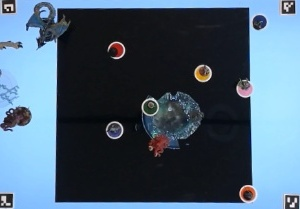blue: (252, 13, 271, 31)
green: (140, 94, 162, 117)
orange: (239, 182, 258, 204)
pink: (232, 76, 255, 100)
red: (108, 41, 127, 60)
violet: (103, 119, 126, 139)
yellow: (194, 63, 214, 85)
